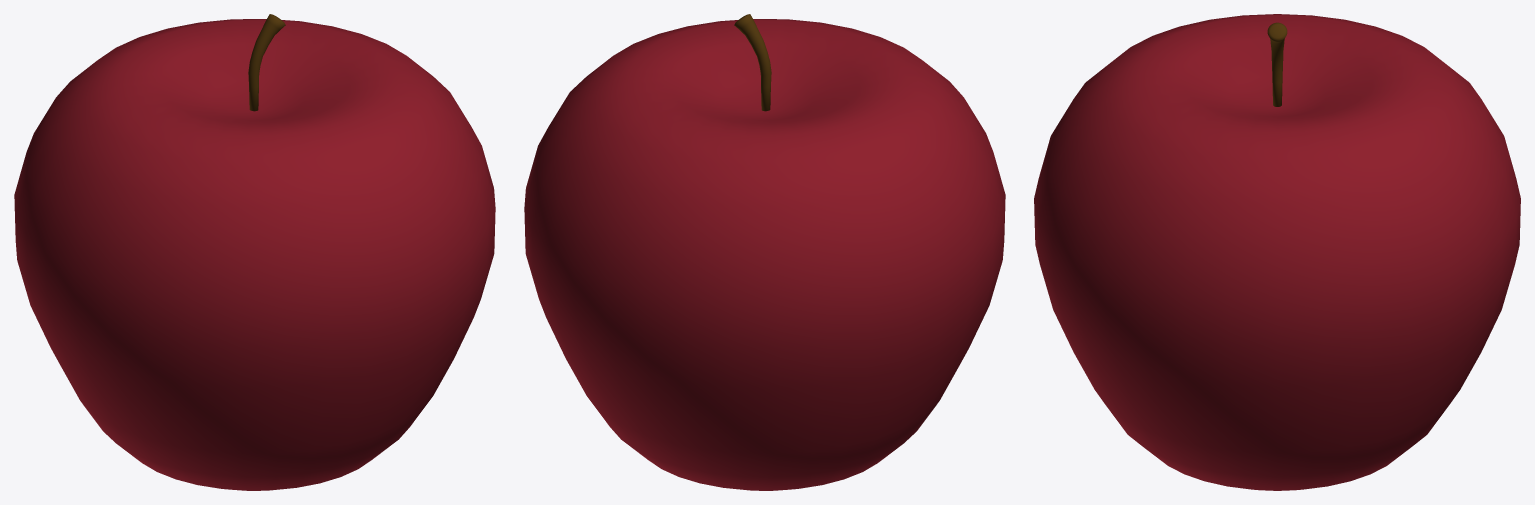
The model's file is Apfel.fbx.
The picture shows the model from 3 angles, left to right: view 1: azimuth 30°, elevation 25°; view 2: azimuth 150°, elevation 25°; view 3: azimuth 270°, elevation 25°; orthographic projection.
Visible parts, largest first — view 1: Apfel_komplett; view 2: Apfel_komplett; view 3: Apfel_komplett.
Part boxes in pixels (<box>): Apfel_komplett: <box>14,14,495,490</box>; Apfel_komplett: <box>524,14,1005,490</box>; Apfel_komplett: <box>1034,14,1520,490</box>.
Size of the model in its own units: 233 by 234 by 233.
